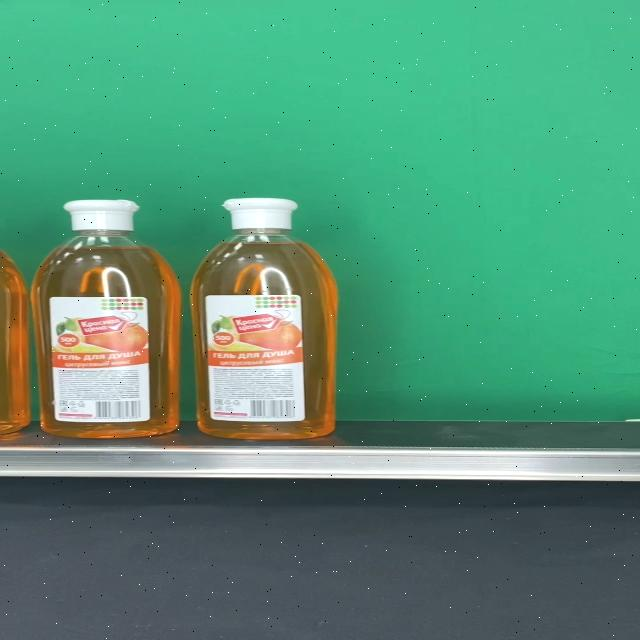Bottle: (31, 200, 180, 438), (192, 198, 337, 440)
Cap: (222, 198, 300, 230), (63, 200, 141, 232)
